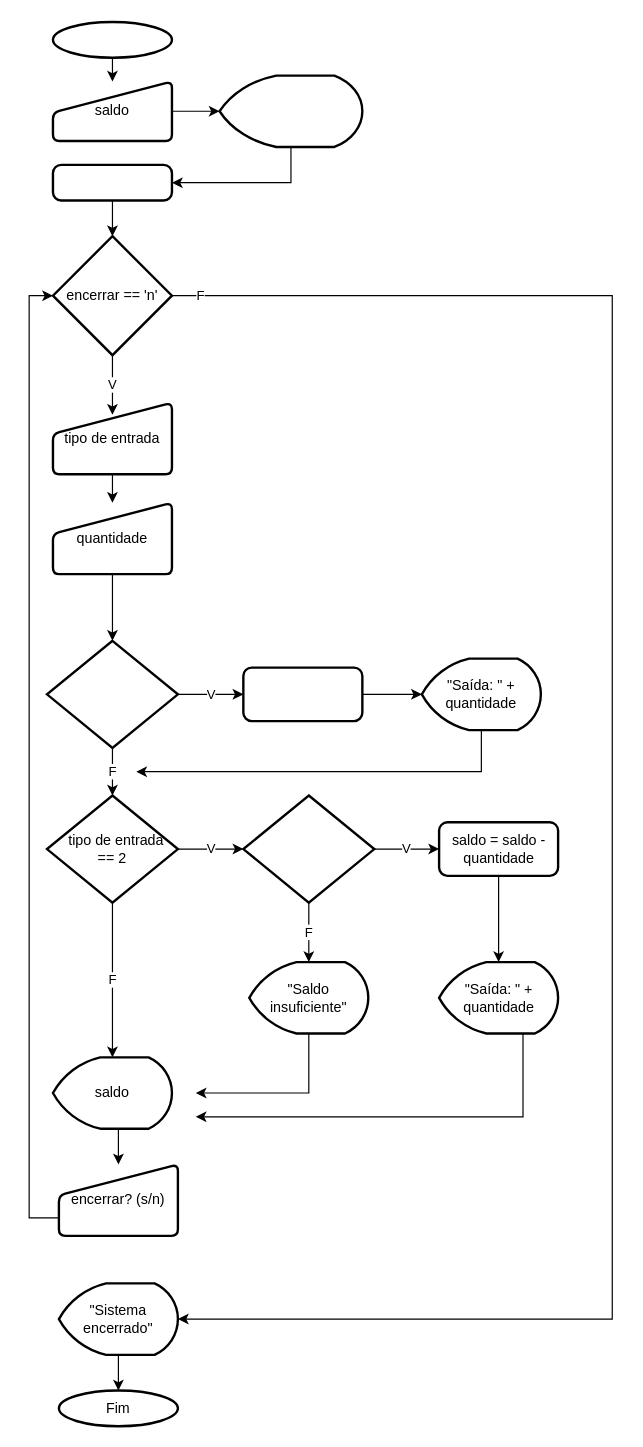
Image size: 643x1447. Some labels were removed from this diagram. The centre of each missing label's shape, as x and y in pixels:
"Saldo incial: "+ saldo: (290,111)
encerrar = 'n': (112,182)
início: (112,39)
saldo = saldo + quantidade: (302,694)
saldo >= quantidade: (308,848)
tipo de entrada == 1: (111,694)
